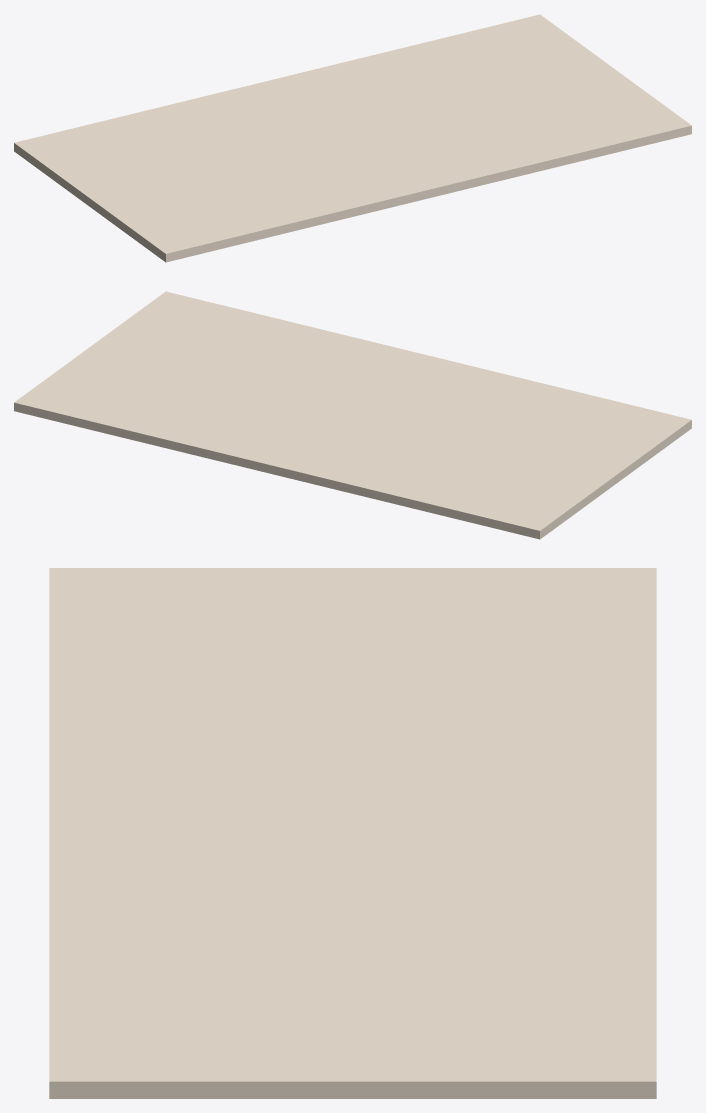
File: arena_base.dae
3 renders of one model, top to bottom at view 1: azimuth 30°, elevation 25°; view 2: azimuth 150°, elevation 25°; view 3: azimuth 270°, elevation 25°, orthographic. The views are drawn at different scales.
Visible parts, largest first — view 1: ARBotArenaBotom v3; view 2: ARBotArenaBotom v3; view 3: ARBotArenaBotom v3.
Boxes of the visible parts, box(x1,y1,x2,y2) form: ARBotArenaBotom v3: box(14, 14, 691, 262); ARBotArenaBotom v3: box(14, 291, 691, 539); ARBotArenaBotom v3: box(49, 568, 656, 1098).
Size of the model in its own units: 1219 by 610 by 20.04.
